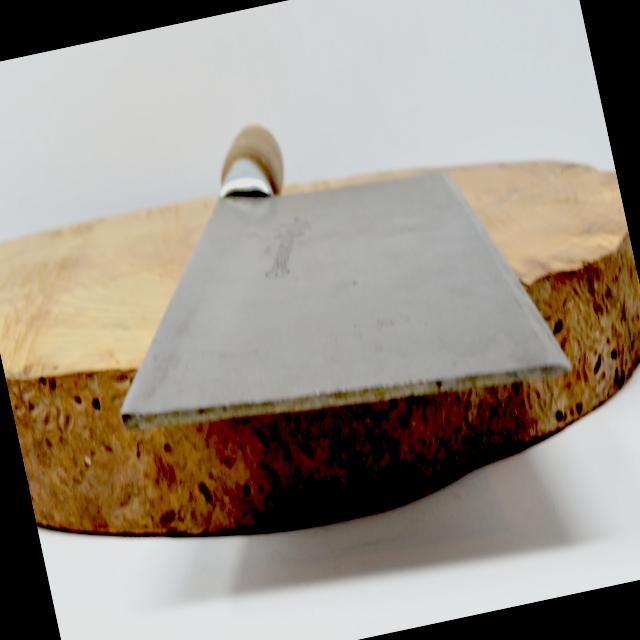cleaver: (80, 88, 494, 458)
